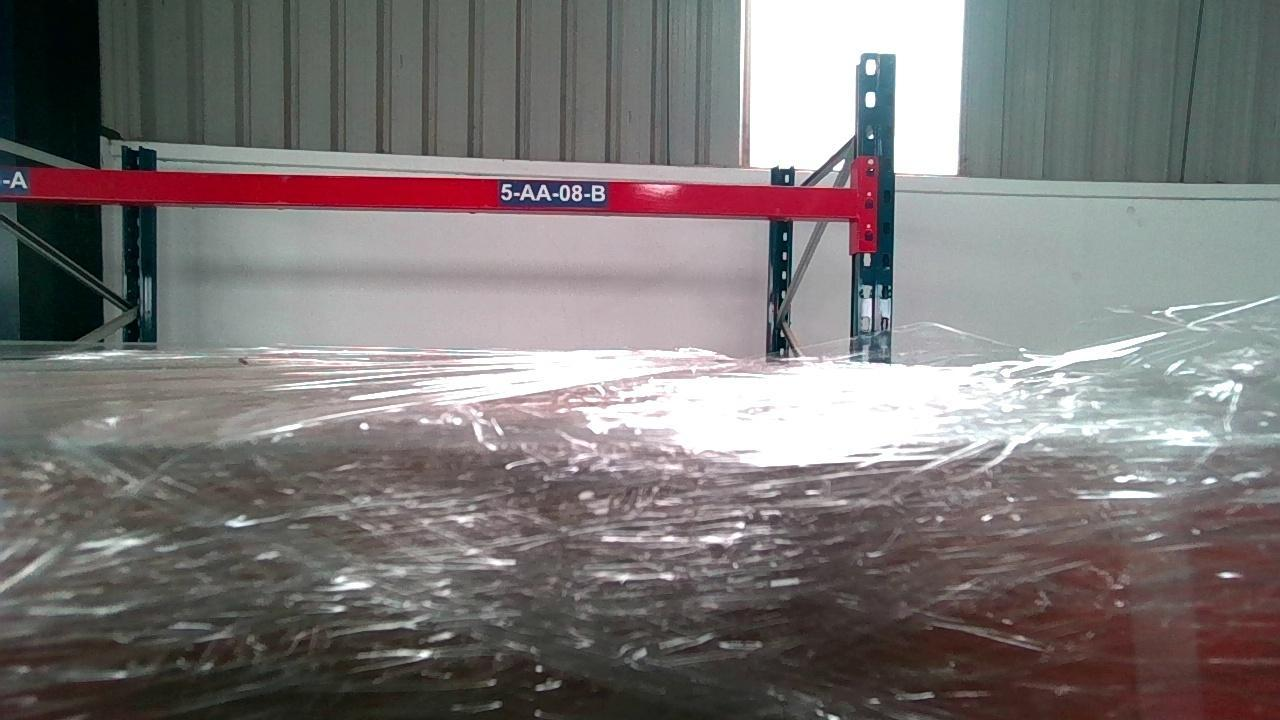h_rack: (0, 164, 863, 217)
